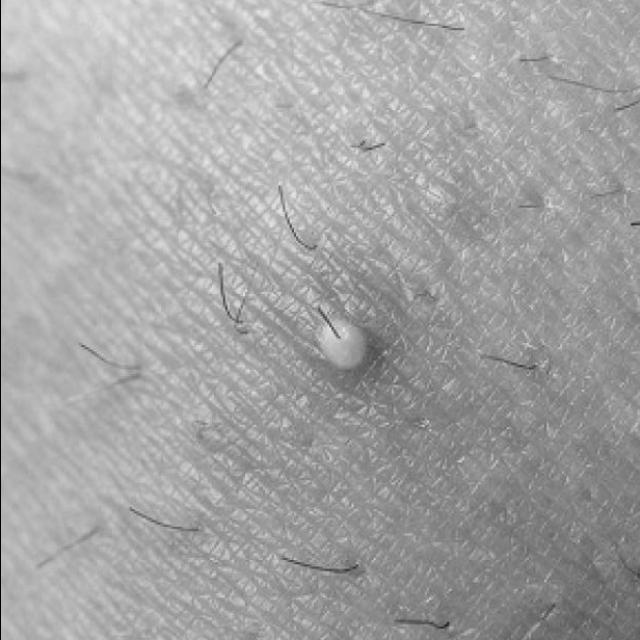pustule: (254, 272, 418, 419)
